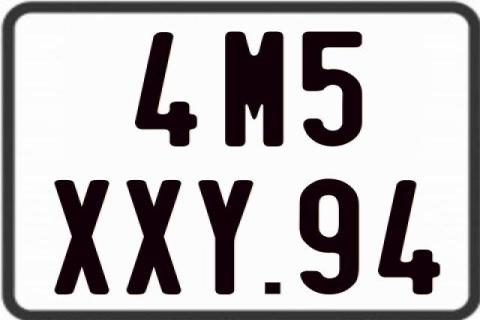0: (299, 178, 364, 298), (302, 31, 368, 149), (133, 32, 195, 150), (377, 179, 440, 295)
M: (224, 31, 286, 151)
X: (54, 178, 113, 296), (124, 177, 182, 297)
Y: (196, 179, 252, 297)
